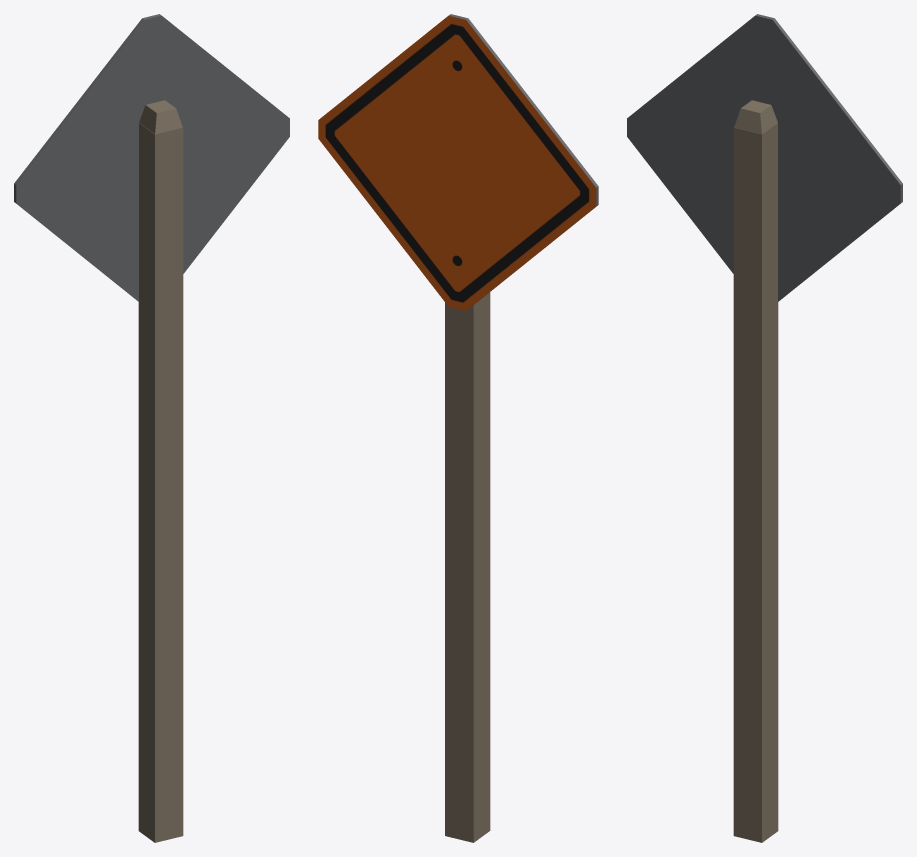
Rendered from work-sign-blank.glb.
3 views of the same model, side by side, from view 1: azimuth 30°, elevation 25°; view 2: azimuth 150°, elevation 25°; view 3: azimuth 330°, elevation 25° (orthographic).
Parts seen in each view (by area): view 1: work-sign-blank; view 2: work-sign-blank; view 3: work-sign-blank.
Boxes of the visible parts, x1=… form: work-sign-blank: x1=14, y1=14, x2=289, y2=842; work-sign-blank: x1=318, y1=14, x2=598, y2=842; work-sign-blank: x1=627, y1=14, x2=902, y2=842.
Size of the model in its own units: 0.8592 by 2.43 by 0.099.
Materials: 3 (1 with a texture image).
